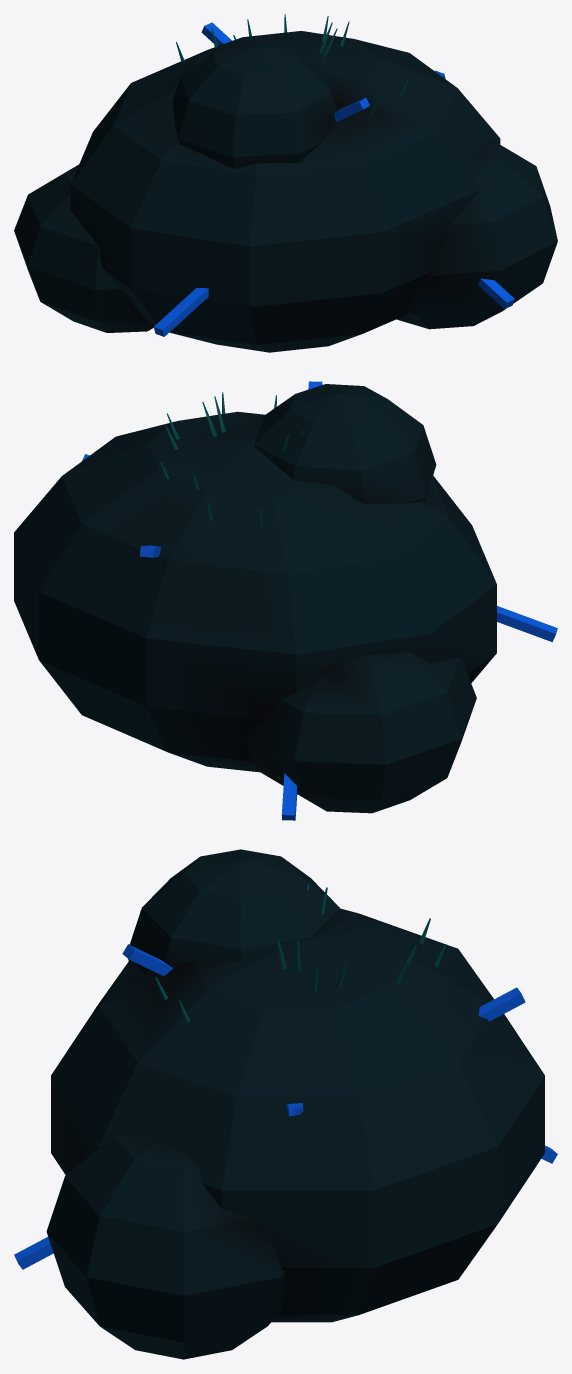
Rendered from lodestone.glb.
3 views of the same model, one above another, from view 1: azimuth 30°, elevation 25°; view 2: azimuth 150°, elevation 25°; view 3: azimuth 270°, elevation 25° (orthographic). The views are drawn at different scales.
Parts seen in each view (by area): view 1: lodestone; view 2: lodestone; view 3: lodestone.
Boxes of the visible parts, x1,y1,x2,y2 form: lodestone: (14, 14, 557, 352); lodestone: (14, 381, 557, 820); lodestone: (14, 849, 557, 1359).
Size of the model in its own units: 1.7 by 1.14 by 1.43.
1 material, 1 textured.
